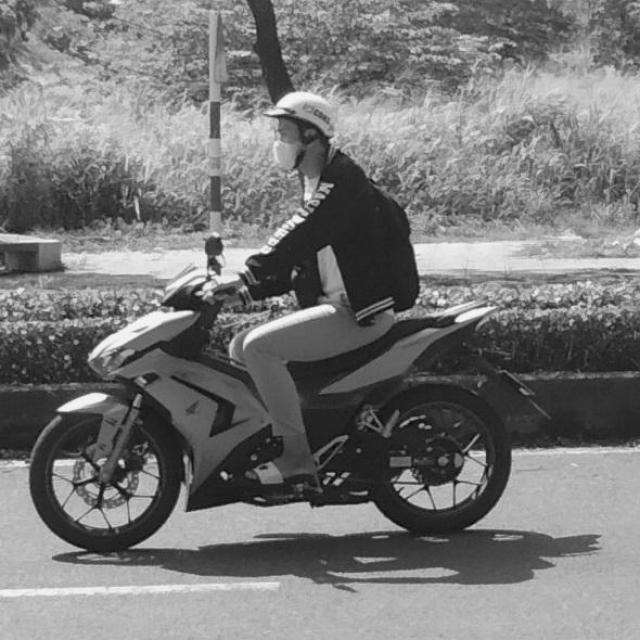Helmet: (269, 89, 338, 178)
